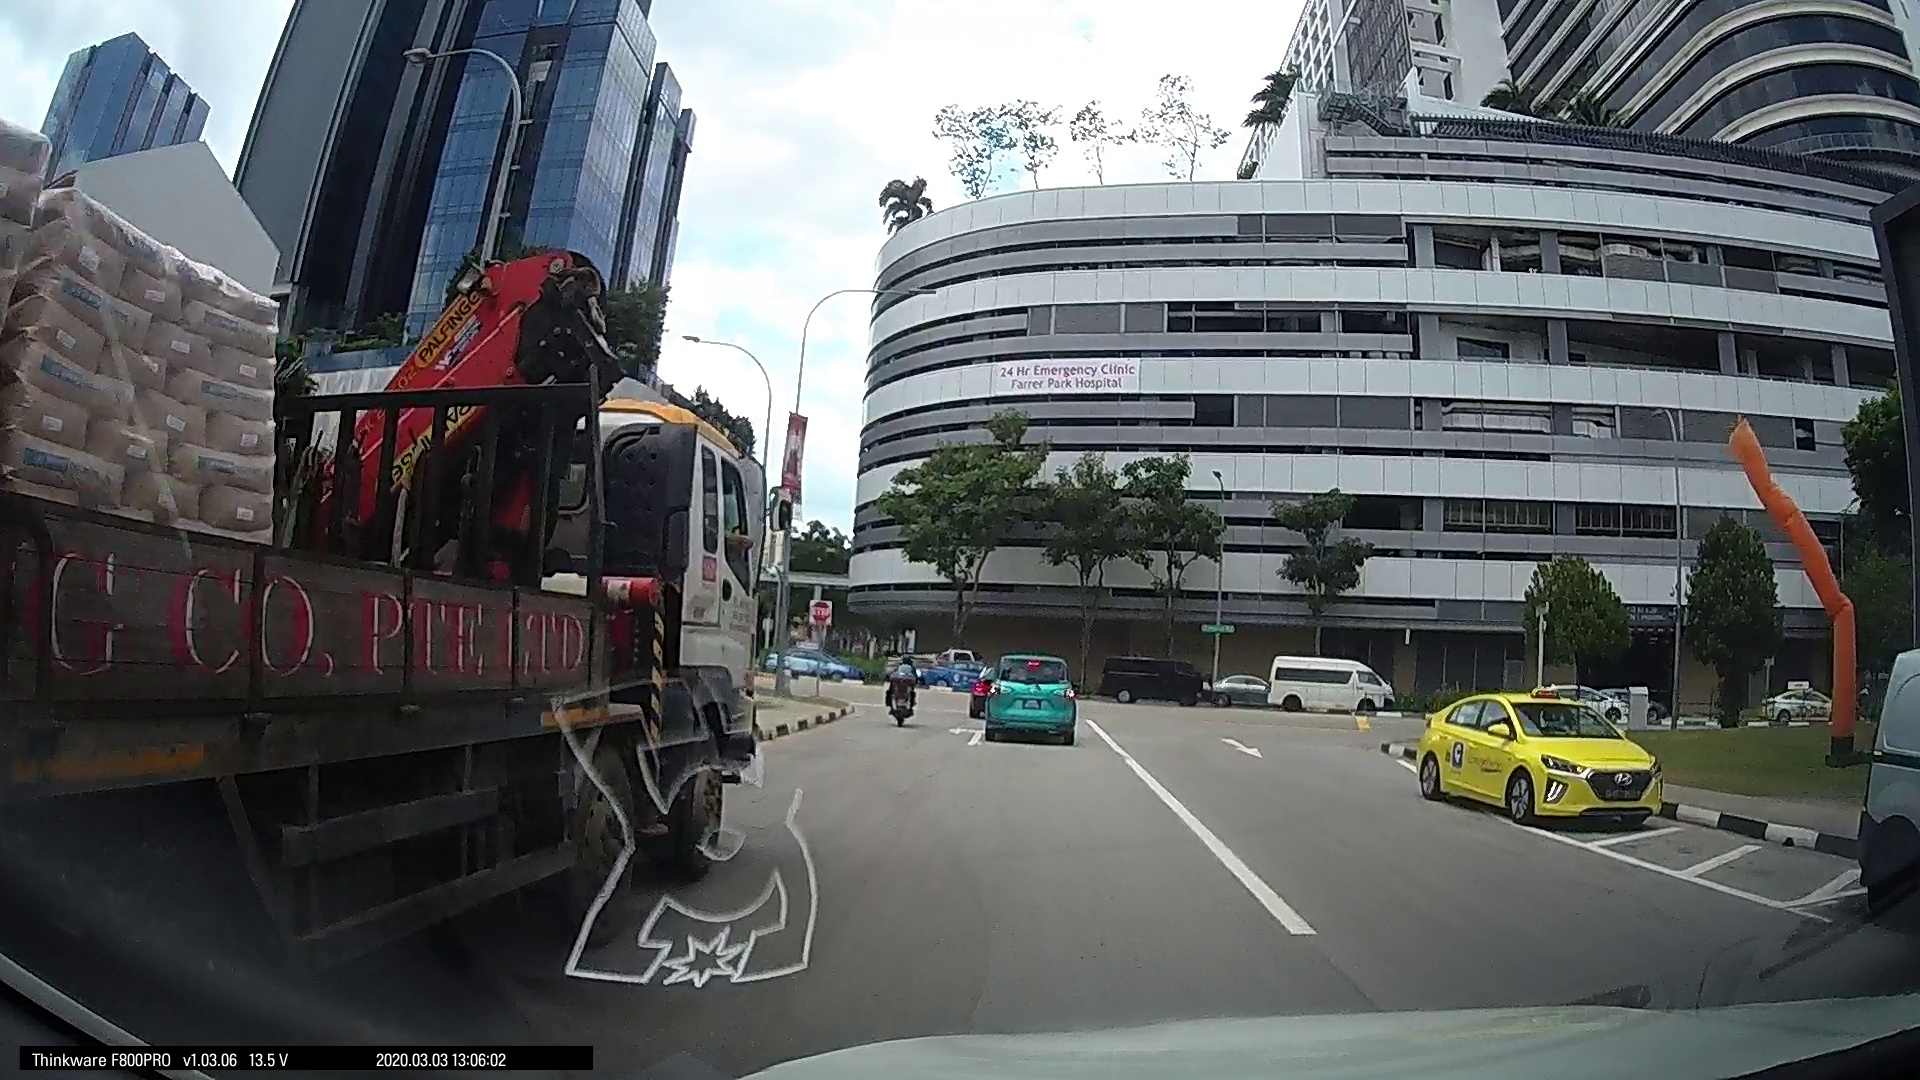Heavy Vehicle: (5, 156, 771, 1004)
Light Vehicle: (1403, 683, 1671, 833), (1255, 650, 1394, 715), (976, 653, 1076, 740), (1098, 647, 1207, 702), (1209, 667, 1267, 705)
